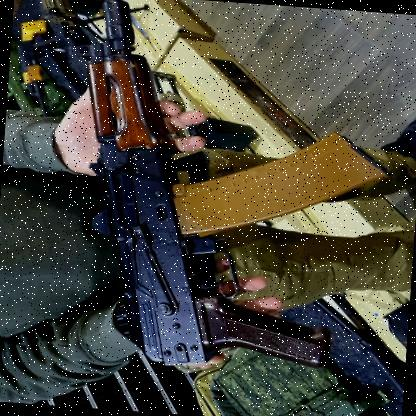rifle: (52, 0, 398, 394)
